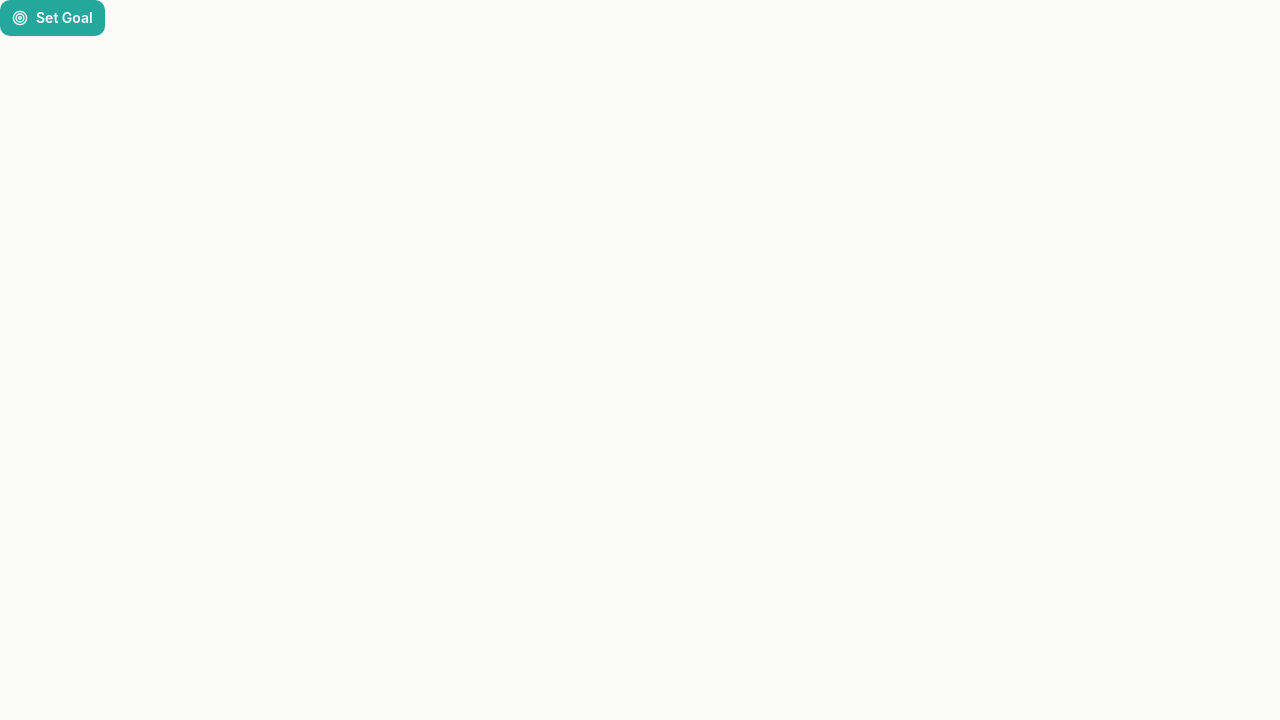
Test case: CreateSavingsGoalDialog › shows validation error for empty name on submit
Click the button "Set Goal" at (52, 18), box [0,0,105,36]
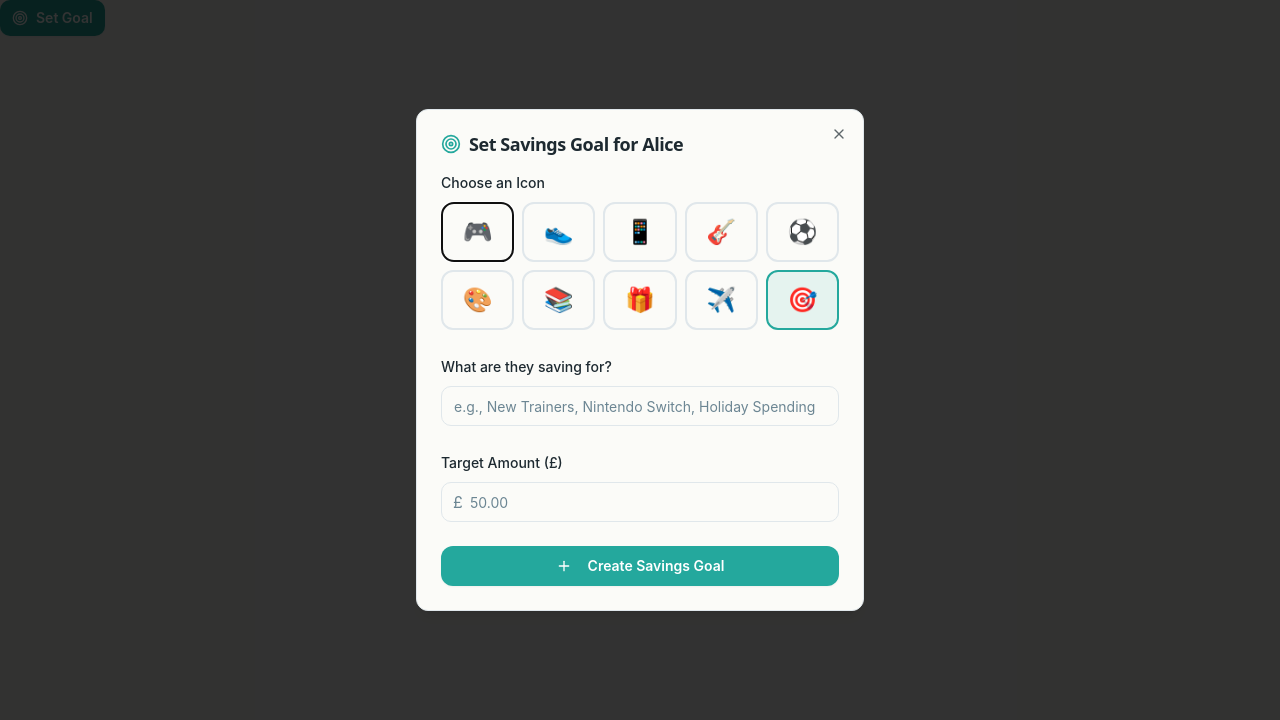
Click the button "Create Savings Goal" at (640, 566), box [441,546,839,586]
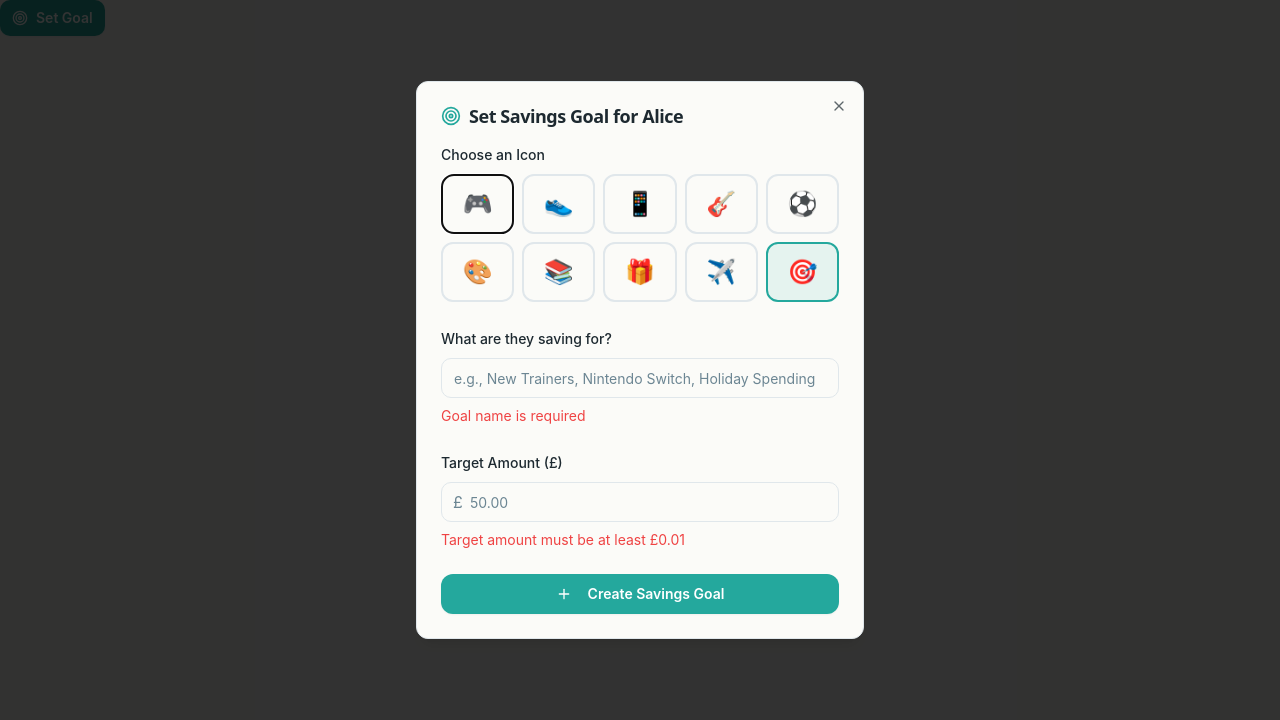
Now the text "Goal name is required" is shown, box [441,407,586,424]
